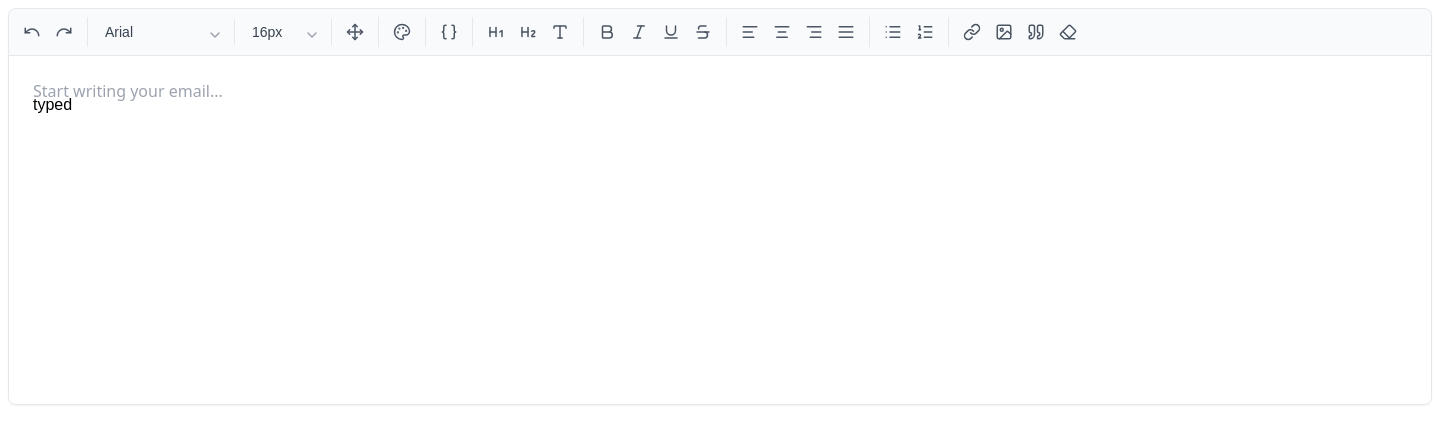
it: EmailEditor › hides the placeholder when the user types into an empty editor
The image size is (1440, 422).
Expected: the text "Start writing your email..." is shown, top-left (33, 80), bottom-right (223, 102)
Clear the field with class "ree-content" at (53, 104), box top-left (33, 96), bottom-right (72, 113)
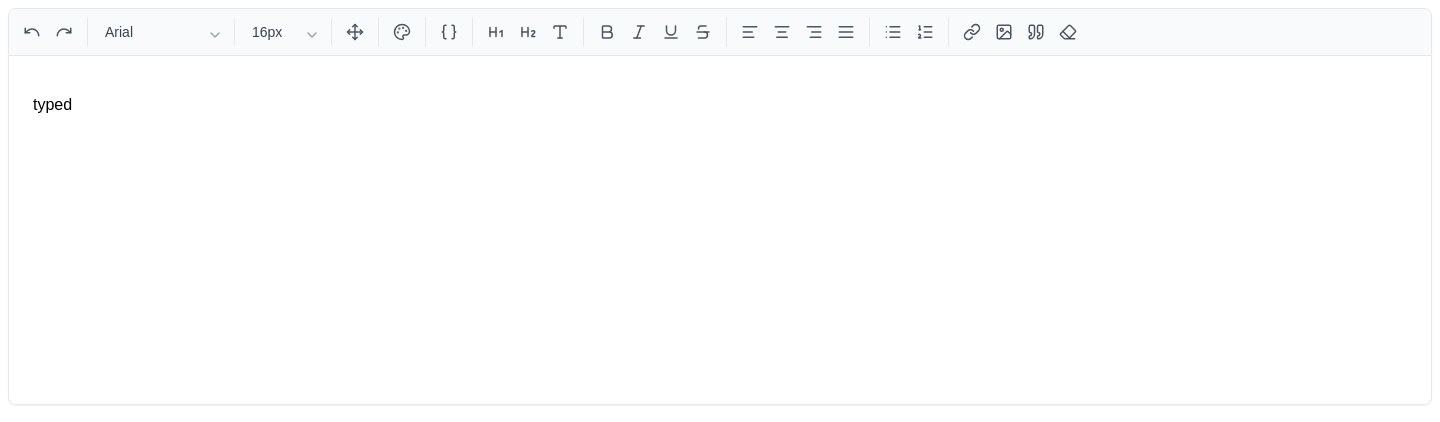
Expected: the text with class "ree-placeholder" is gone
